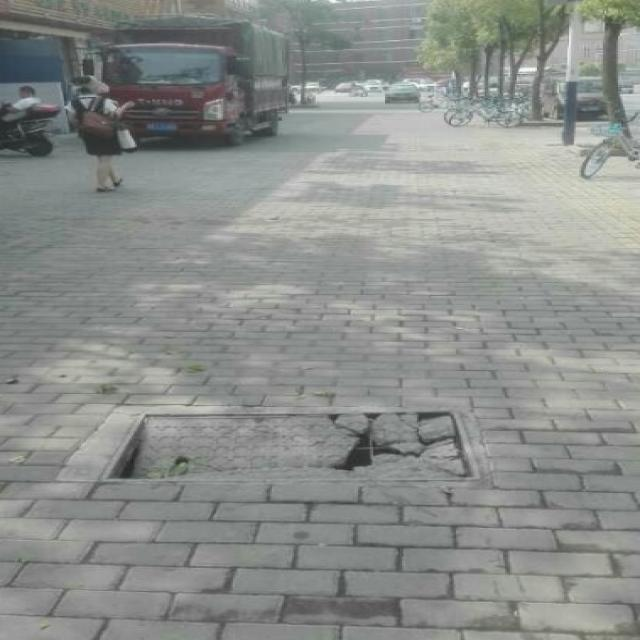Broken: (82, 370, 521, 495)
